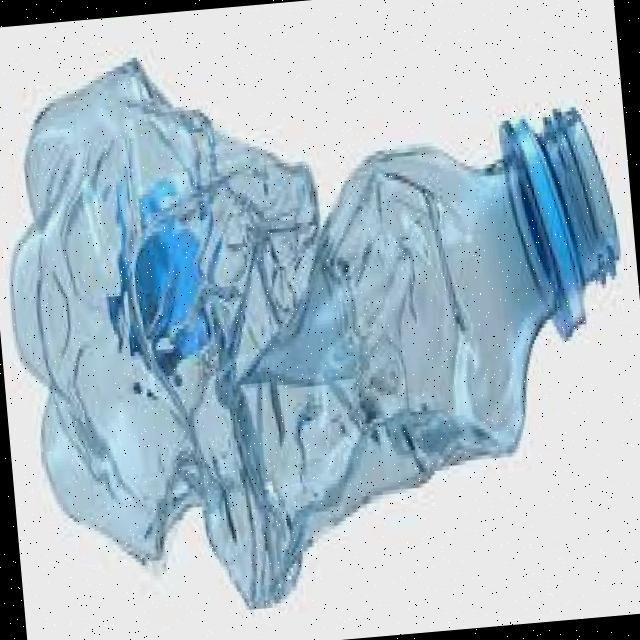bottle: (0, 10, 640, 629)
